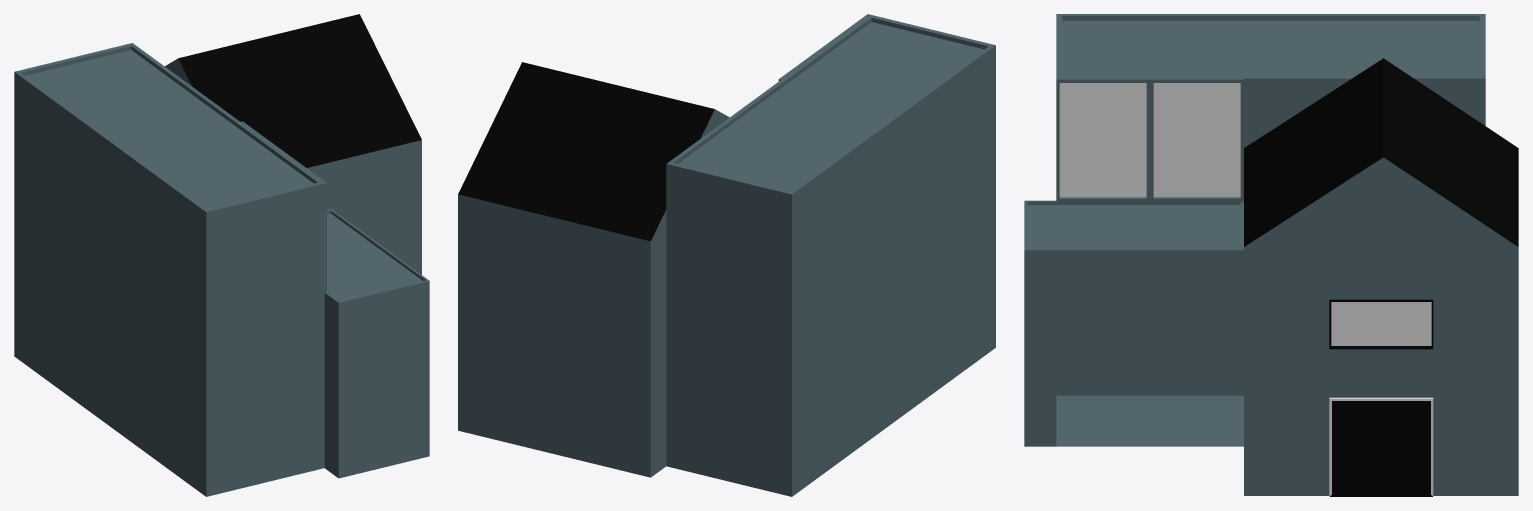
Rendered from rumah.fbx.
The picture shows the model from 3 angles, left to right: view 1: azimuth 30°, elevation 25°; view 2: azimuth 150°, elevation 25°; view 3: azimuth 270°, elevation 25°; orthographic projection. The views are drawn at different scales.
Parts seen in each view (by area): view 1: Cube; view 2: Cube; view 3: Cube.
Part boxes in pixels (left/top/right/bottom): Cube: left=14, top=14, right=429, bottom=496; Cube: left=458, top=14, right=995, bottom=496; Cube: left=1024, top=14, right=1518, bottom=496.
Size of the model in its own units: 651 by 628 by 826.
